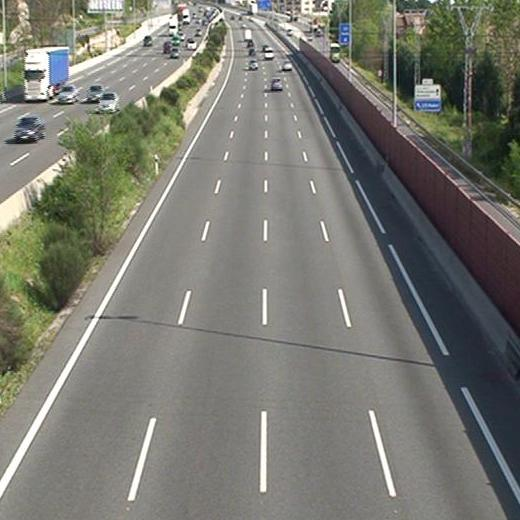car: (271, 77, 282, 89), (282, 61, 293, 71), (247, 58, 256, 69)
